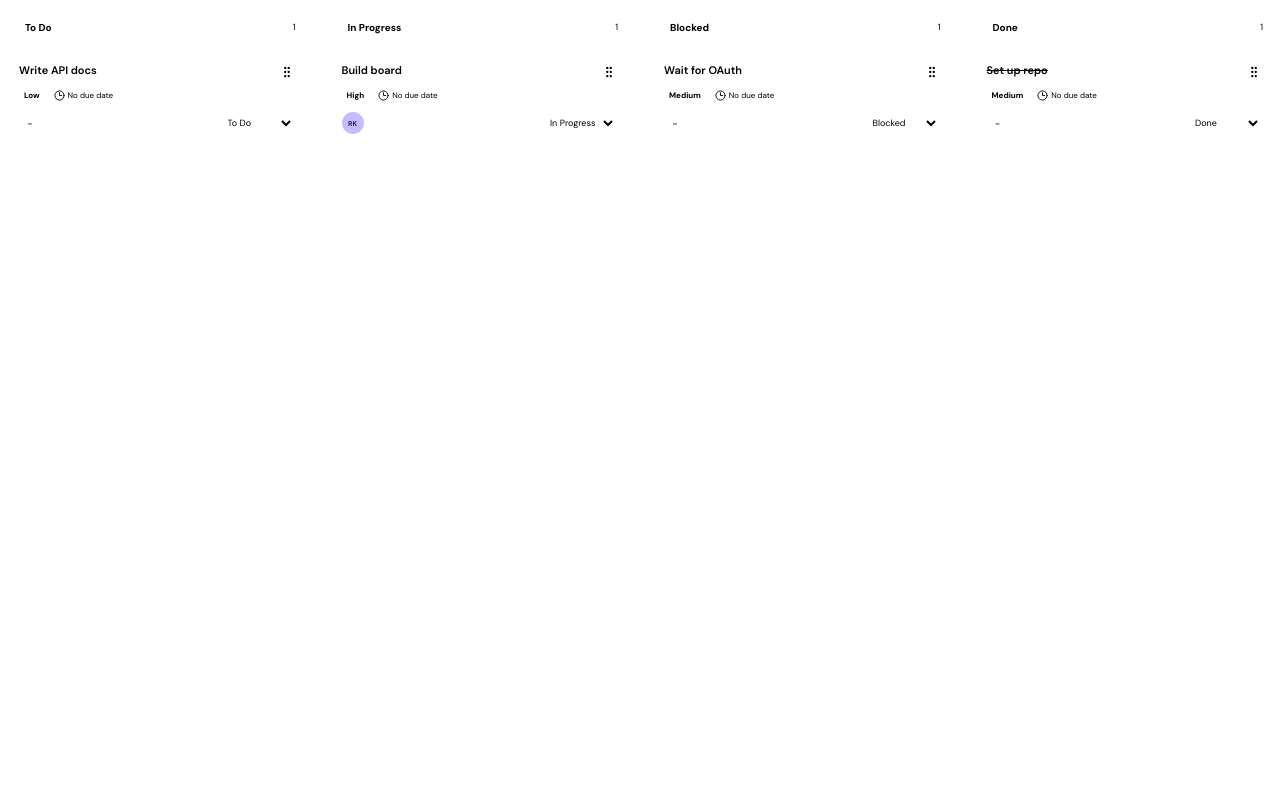
Test: KanbanBoard: US-28 move tasks › on 409 shows the conflict message and leaves the card in the server's column
The image size is (1280, 800).
Step 1. Select "Done" in the dropdown named "Move Write API docs to" → (256,123), box [220,111,294,135]
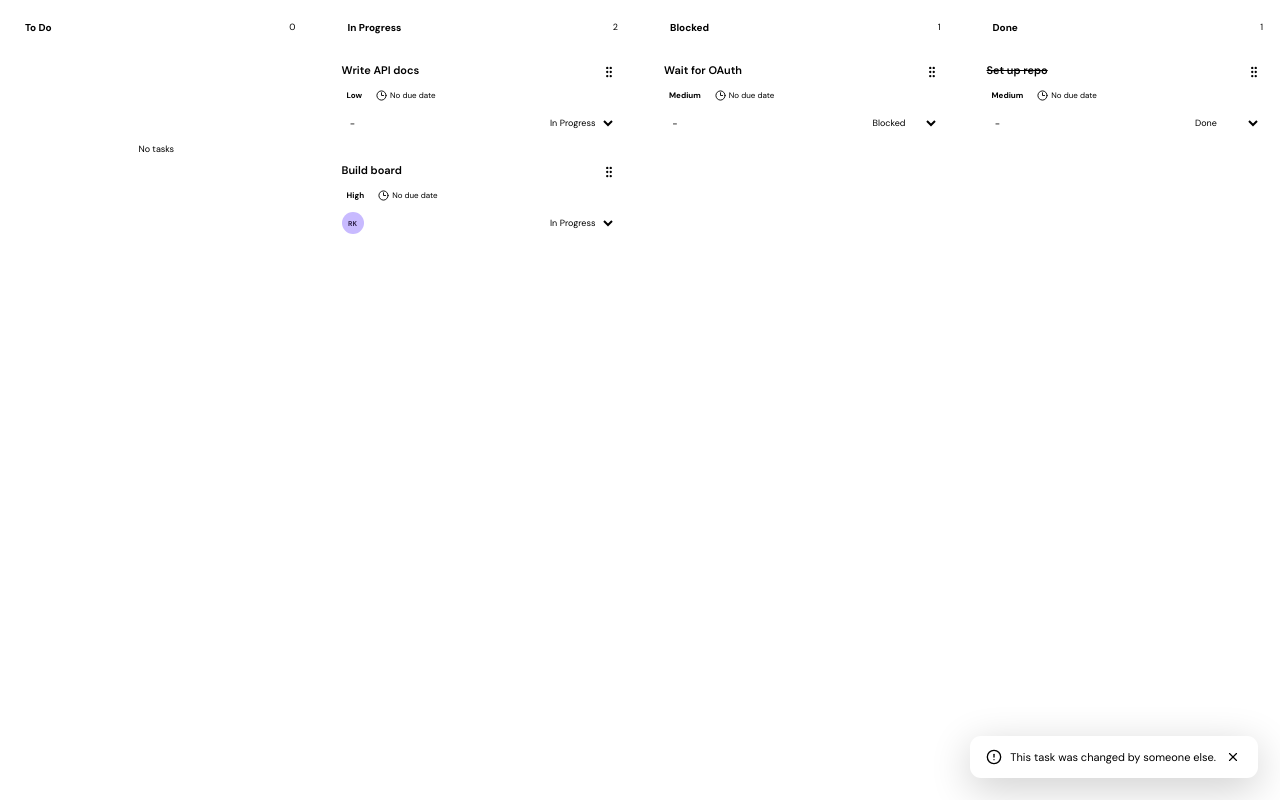
expect the text "In Progress" is shown: met, box [348,20,401,34]
expect the message shows "This task was changed by someone else": met, box [1010,750,1216,764]
